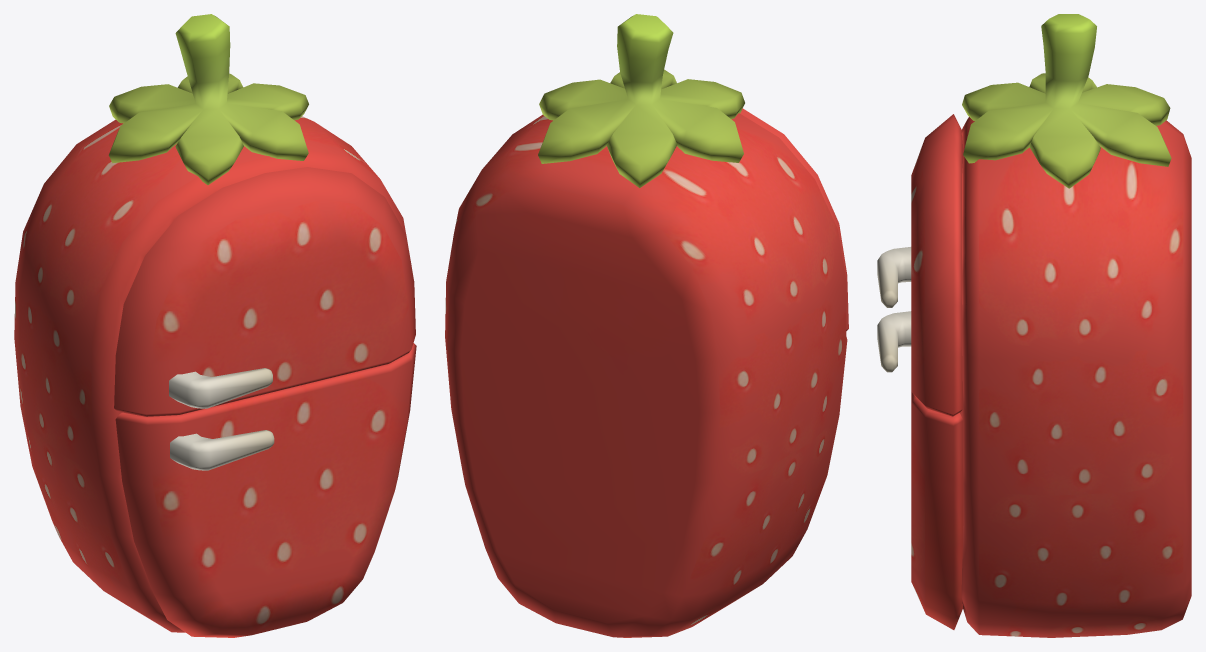
Rendered from Homestead_cm_4.fbx.
3 renders of one model, left to right at view 1: azimuth 30°, elevation 25°; view 2: azimuth 150°, elevation 25°; view 3: azimuth 270°, elevation 25°, orthographic. The views are drawn at different scales.
Parts seen in each view (by area): view 1: Homestead_cm_4; view 2: Homestead_cm_4; view 3: Homestead_cm_4.
Boxes of the visible parts, left/top/right/bottom form: Homestead_cm_4: left=14, top=14, right=416, bottom=637; Homestead_cm_4: left=445, top=14, right=848, bottom=637; Homestead_cm_4: left=877, top=14, right=1191, bottom=637.
Bounding box in the file's own units: 156 × 254 × 123.
